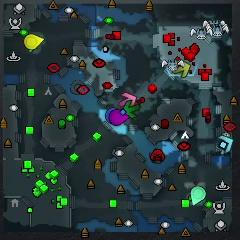p1: (105, 106, 117, 124)
p2: (190, 186, 207, 206)
p3: (108, 109, 129, 126)
p4: (24, 33, 45, 49)
x1: (119, 92, 137, 107)
x2: (172, 61, 191, 78)
x3: (217, 135, 234, 153)
x4: (123, 102, 141, 119)
